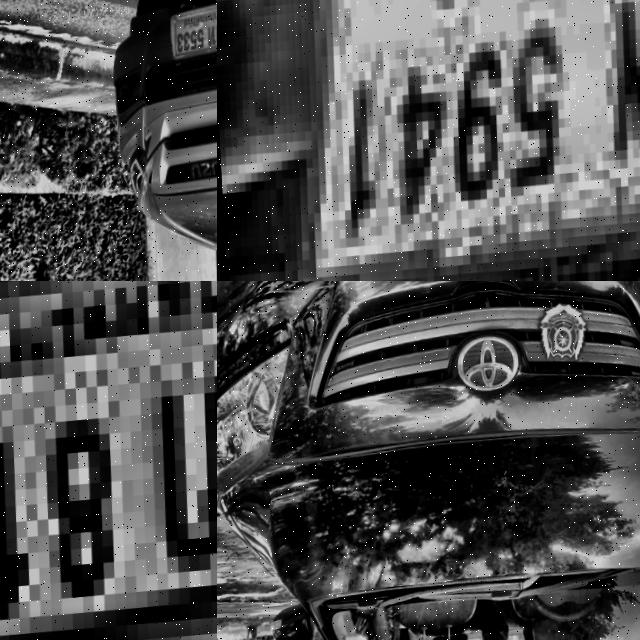license-plate: (257, 0, 640, 281), (0, 281, 217, 640), (163, 3, 217, 67)
